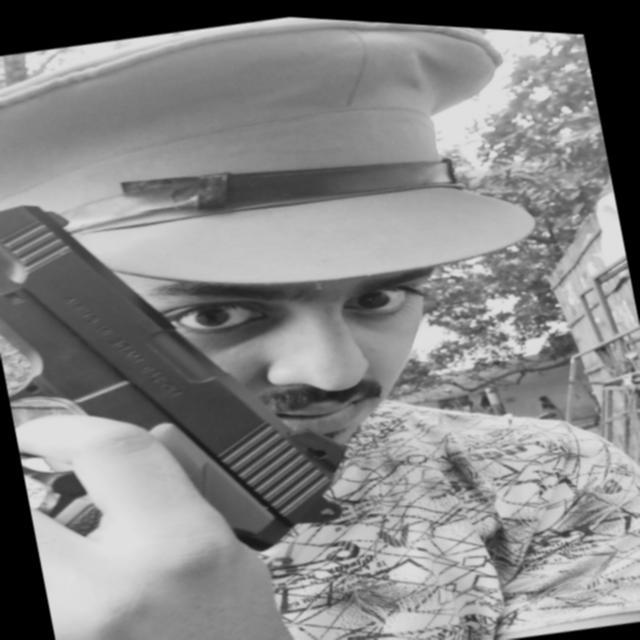weapon: (0, 134, 384, 636)
